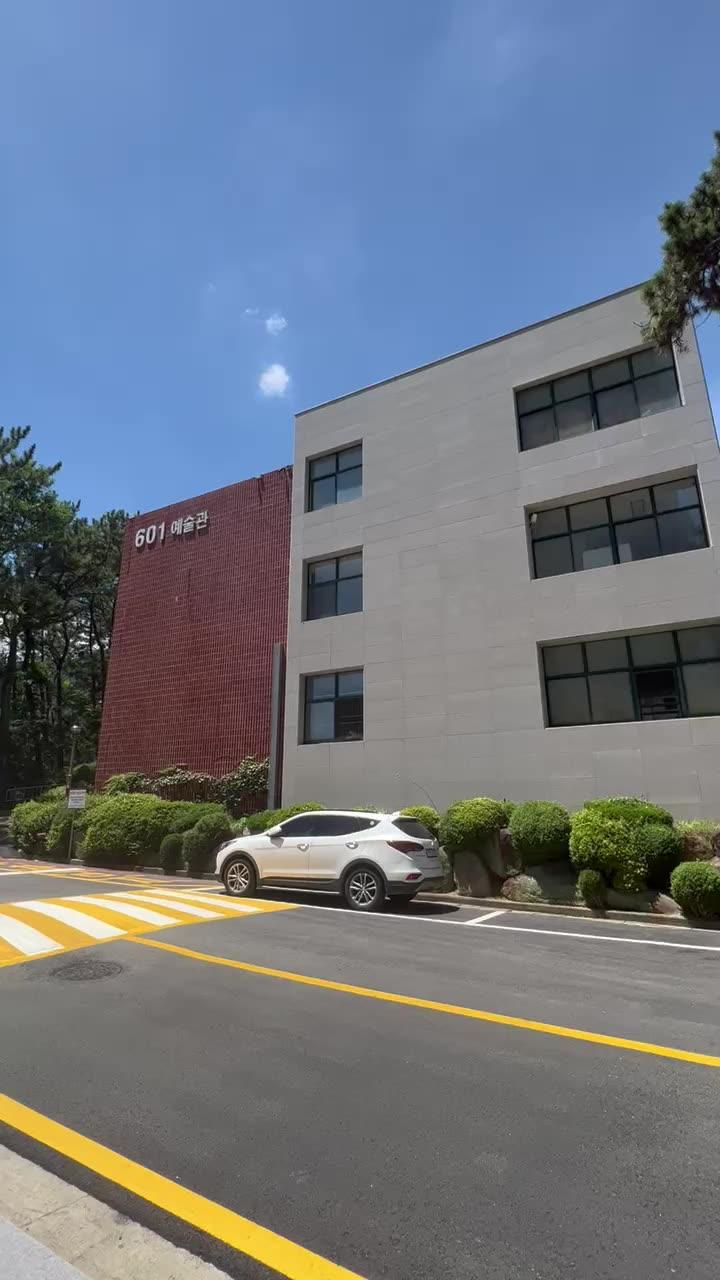building: (112, 292, 720, 772)
